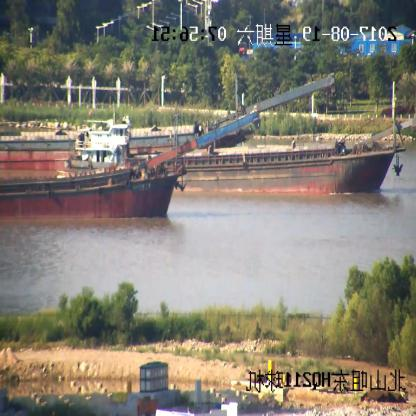Bulk Carrier: (0, 111, 259, 220), (186, 82, 416, 196), (1, 77, 334, 150)
